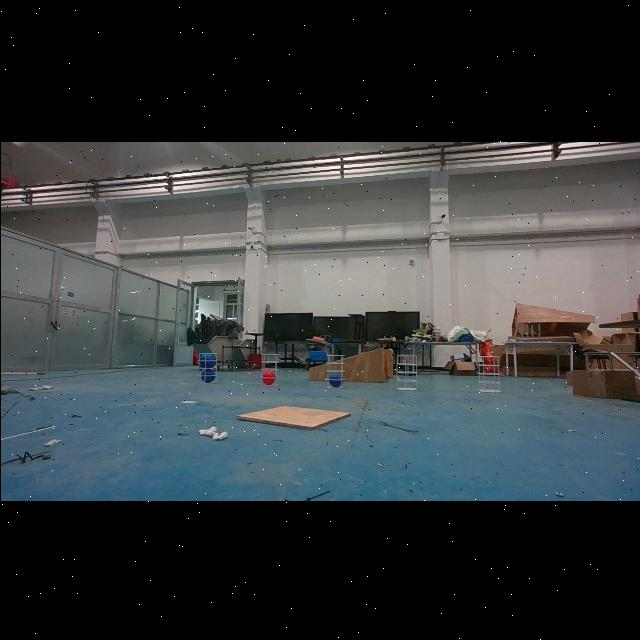B: (200, 368, 216, 382), (328, 372, 344, 386), (198, 354, 216, 366)
R: (260, 371, 274, 385)
S: (474, 352, 502, 394), (393, 351, 419, 391), (257, 348, 281, 388), (322, 350, 346, 390), (196, 349, 220, 385)
